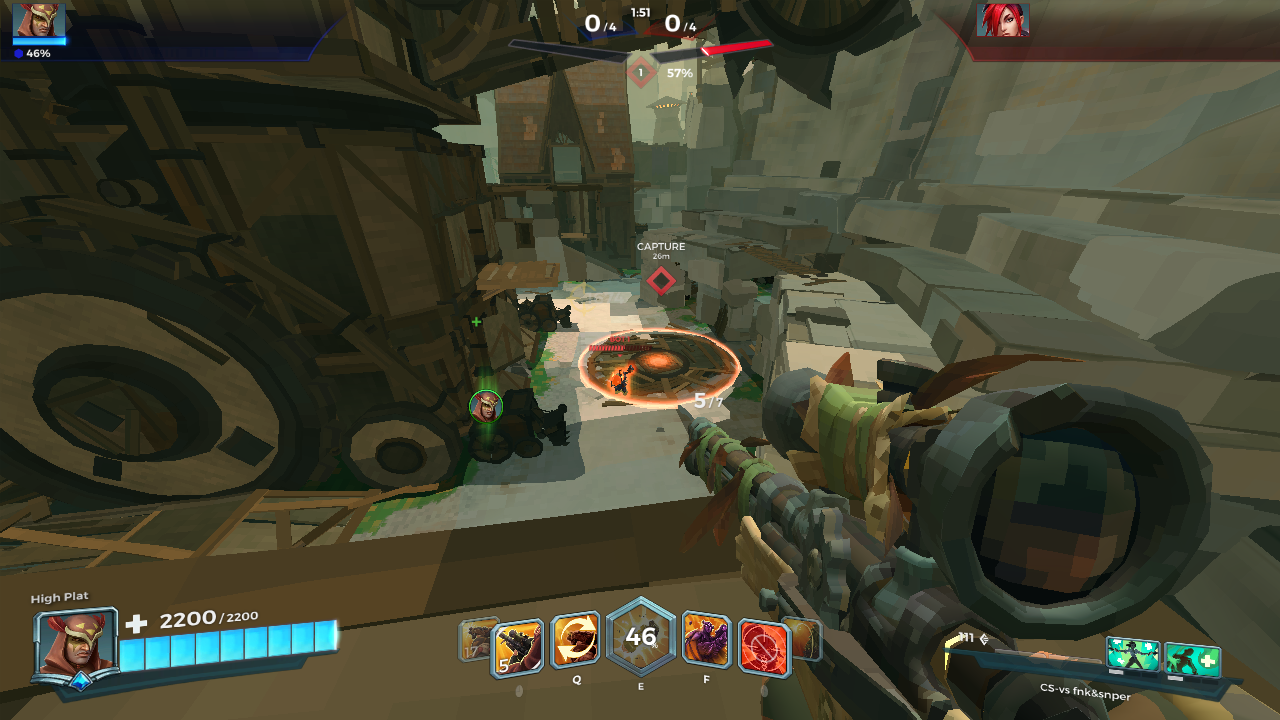model: (607, 358, 633, 400)
